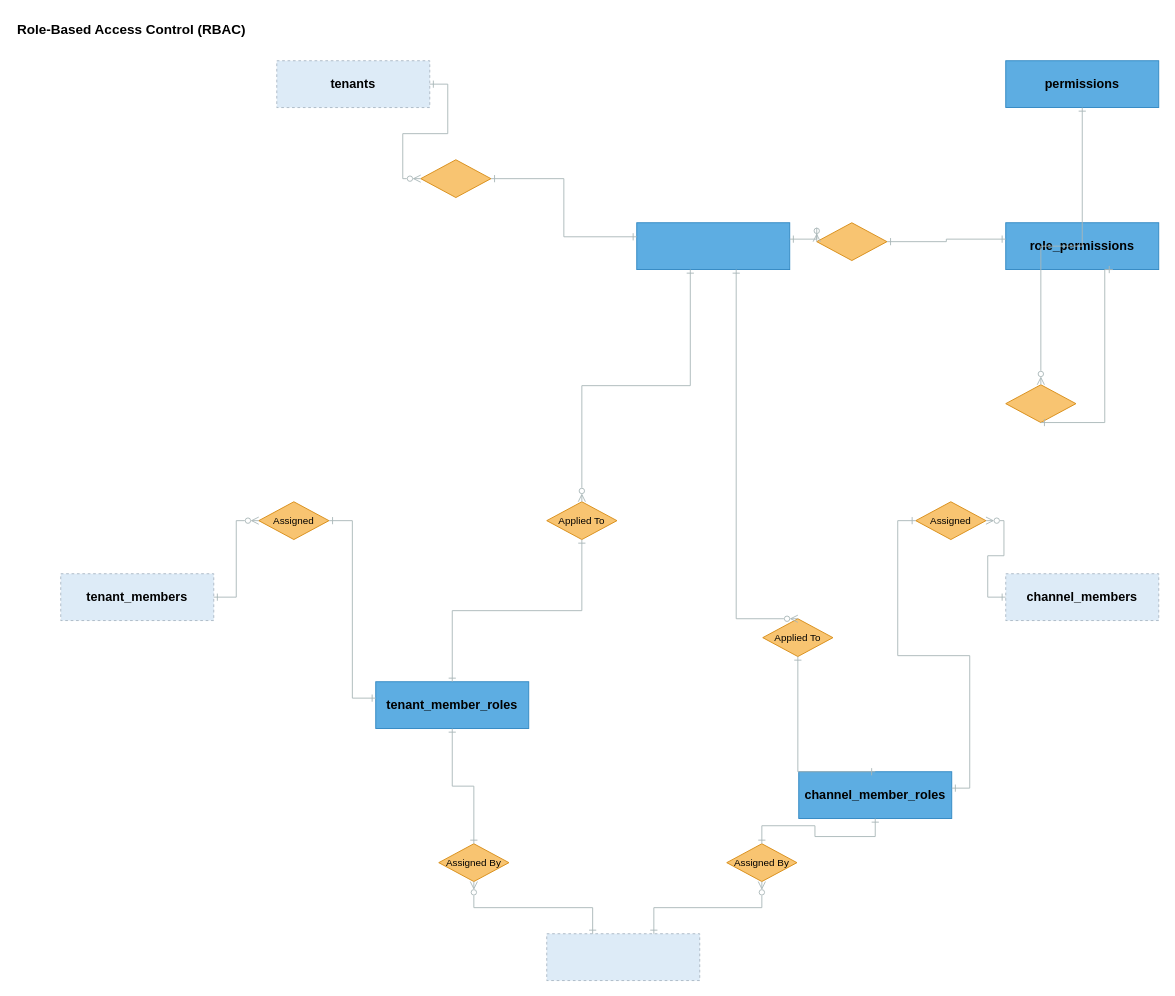
This 1175x996 diagram has some shape labels left out. Each missing label, with the centre of its shape:
Defines: the point at 455,178
Granted Via: the point at 1040,403
Has: the point at 851,241
roles: the point at 713,246
users: the point at 623,957
